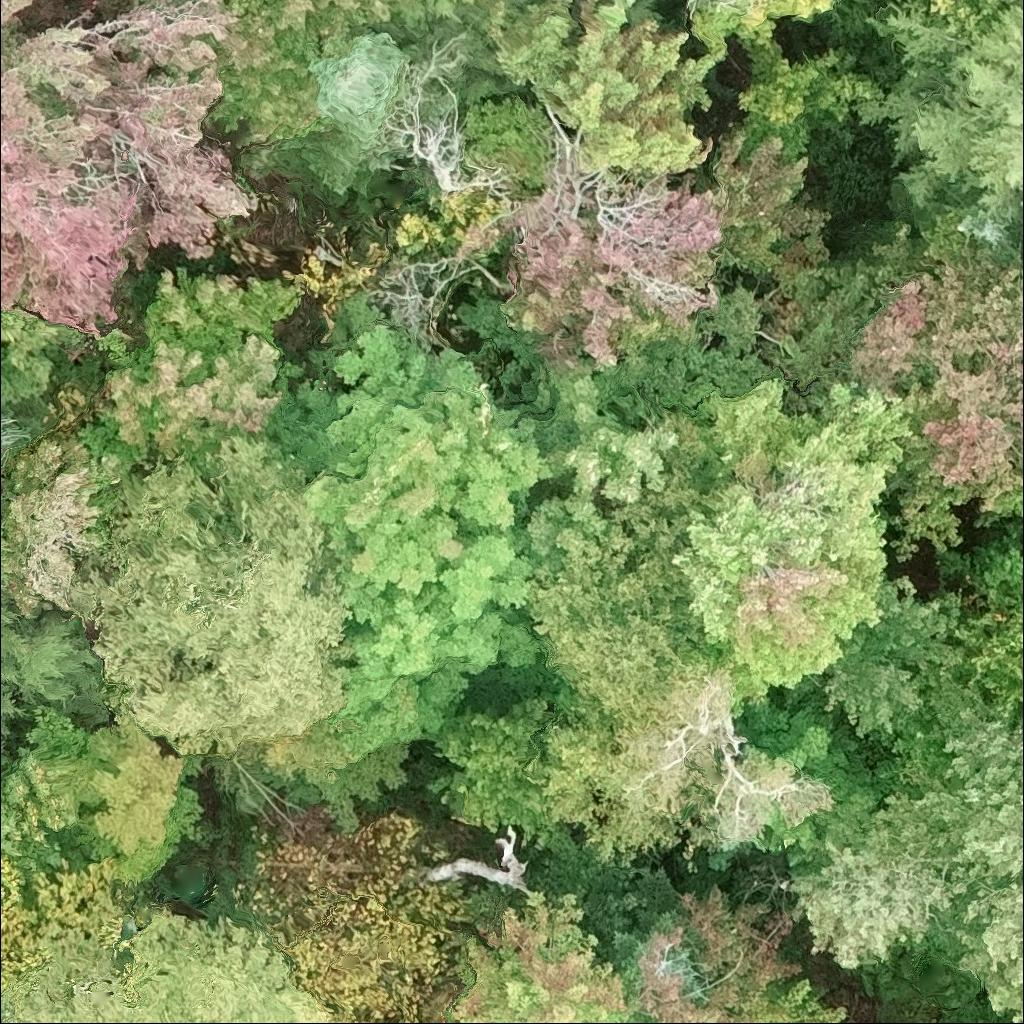crown: (292, 289, 560, 755), (0, 0, 277, 340), (526, 411, 734, 862), (500, 127, 838, 390), (783, 665, 1023, 1023), (77, 435, 349, 749), (667, 373, 921, 702), (447, 884, 852, 1023), (847, 246, 1023, 547), (77, 266, 308, 479), (478, 0, 728, 175), (0, 904, 329, 1023), (858, 0, 1023, 229), (7, 704, 203, 883), (272, 12, 436, 206), (206, 0, 408, 150), (734, 687, 887, 865), (815, 572, 968, 747), (421, 687, 577, 849), (514, 361, 681, 503), (0, 608, 120, 765), (566, 863, 703, 996), (737, 39, 886, 154), (680, 753, 834, 860), (952, 517, 1023, 716), (686, 0, 841, 52), (528, 490, 614, 581), (0, 770, 62, 874), (954, 201, 1023, 267), (401, 0, 494, 32), (0, 590, 22, 624), (0, 516, 8, 557), (0, 568, 4, 590), (179, 0, 187, 2)
